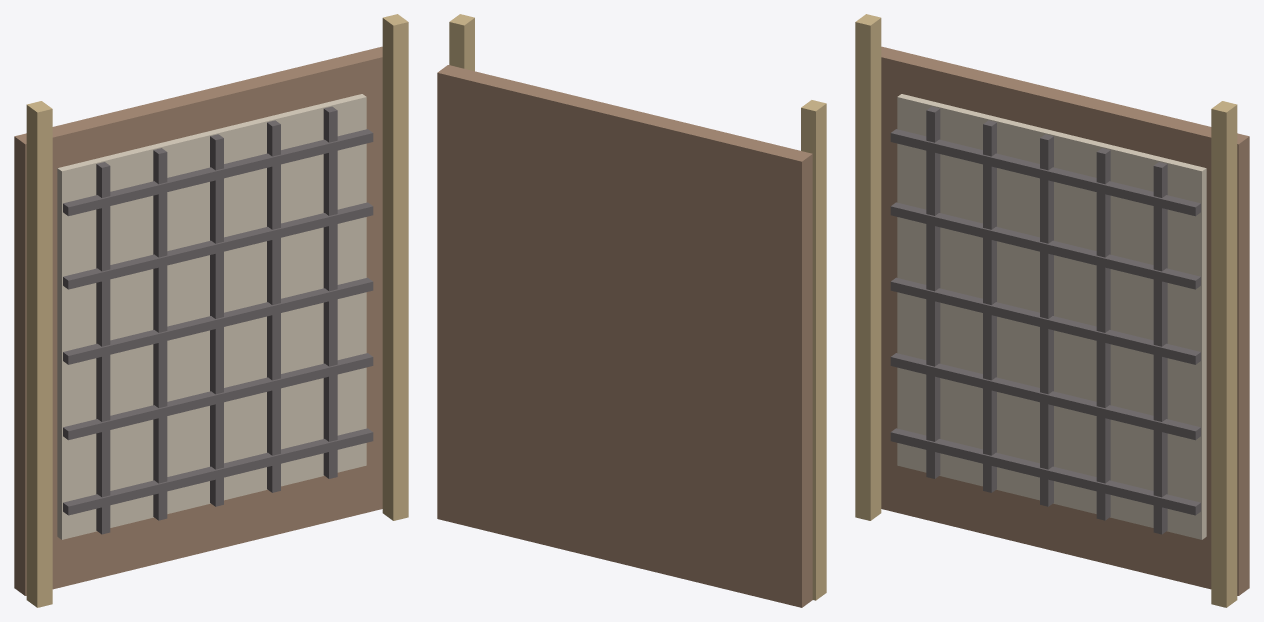
Rendered from facade_lattice_2m.glb.
3 renders of one model, left to right at view 1: azimuth 30°, elevation 25°; view 2: azimuth 150°, elevation 25°; view 3: azimuth 330°, elevation 25°, orthographic.
Parts seen in each view (by area): view 1: box_1, box_0, box_13, box_12, box_3, box_2, box_6, box_5, box_4, box_11, box_8, box_10 (+2 smaller); view 2: box_0, box_12, box_13; view 3: box_1, box_0, box_12, box_13, box_5, box_6, box_2, box_3, box_4, box_11, box_8, box_10 (+2 smaller).
Part boxes in pixels (x1,y1,x2,y2): box_1: (57, 94, 366, 539); box_0: (14, 46, 382, 595); box_13: (382, 14, 408, 520); box_12: (26, 101, 52, 607); box_3: (153, 148, 167, 520); box_2: (96, 162, 110, 534); box_6: (323, 106, 337, 478); box_5: (267, 120, 280, 492); box_4: (210, 134, 223, 506); box_11: (63, 129, 373, 216); box_8: (63, 353, 373, 440); box_10: (63, 202, 373, 289); box_0: (437, 65, 812, 607); box_12: (801, 100, 826, 600); box_13: (449, 14, 474, 71); box_1: (897, 94, 1206, 539); box_0: (881, 46, 1249, 595); box_12: (855, 14, 881, 520); box_13: (1211, 101, 1237, 607); box_5: (1096, 148, 1110, 520); box_6: (1153, 162, 1167, 534); box_2: (926, 106, 940, 478); box_3: (983, 120, 996, 492); box_4: (1040, 134, 1053, 506); box_11: (890, 129, 1200, 216); box_8: (890, 353, 1200, 440); box_10: (890, 202, 1200, 289).
Size of the model in its own units: 1.96 by 2.5 by 0.22.
